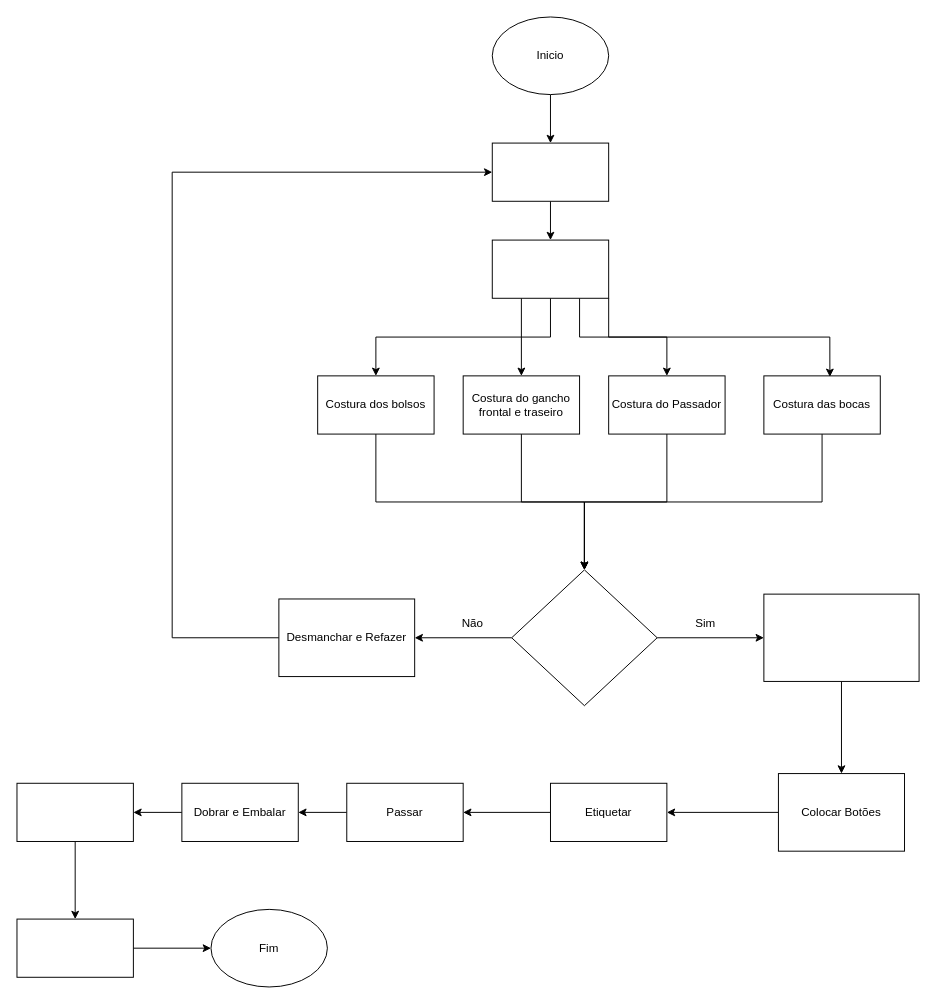
Image size: 936x1004. Some labels were removed from this diagram. The shapes that lost their labels are listed below. From the top down, each one's centre as x and y in pixels, then its label:
At (x=550, y=171): "Corte dos tecidos".
At (x=550, y=268): "Escolher modelo".
At (x=584, y=637): "Peças dentro da especificação?".
At (x=841, y=637): "Junção de todas as partes".
At (x=74, y=811): "Estocar".
At (x=74, y=947): "Expedição".
